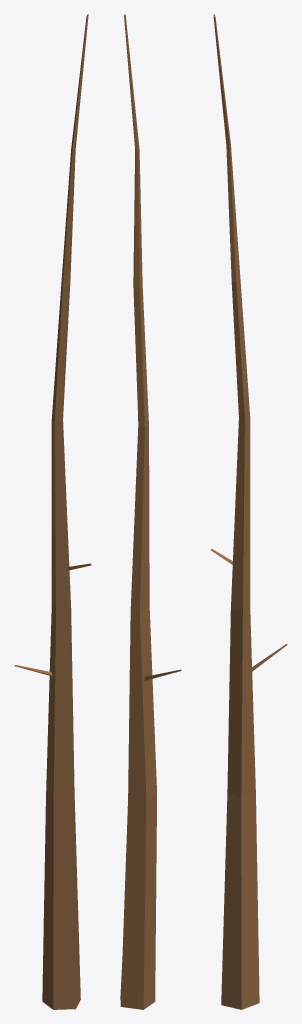
File: Pine_Tree_NoLeaves_l_05_LOD.fbx
The picture shows the model from 3 angles, left to right: view 1: azimuth 90°, elevation 25°; view 2: azimuth 210°, elevation 25°; view 3: azimuth 270°, elevation 25°; orthographic projection.
Parts seen in each view (by area): view 1: Pine_Tree_NoLeaves_l_05_LOD0; view 2: Pine_Tree_NoLeaves_l_05_LOD0; view 3: Pine_Tree_NoLeaves_l_05_LOD0.
Part boxes in pixels (x1=…): Pine_Tree_NoLeaves_l_05_LOD0: x1=14, y1=14, x2=91, y2=1009; Pine_Tree_NoLeaves_l_05_LOD0: x1=120, y1=14, x2=181, y2=1009; Pine_Tree_NoLeaves_l_05_LOD0: x1=210, y1=14, x2=287, y2=1009.
Size of what is drawn, in the model's own units: 77.14 by 1862 by 132.
